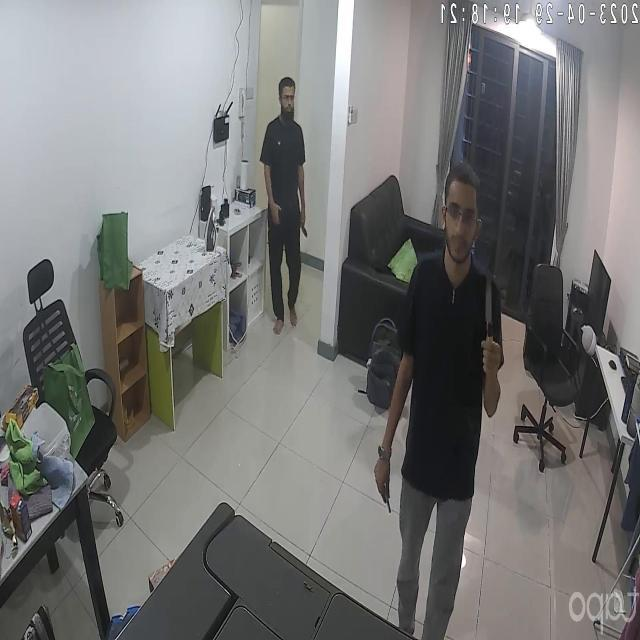Knife: (478, 273, 503, 345)
